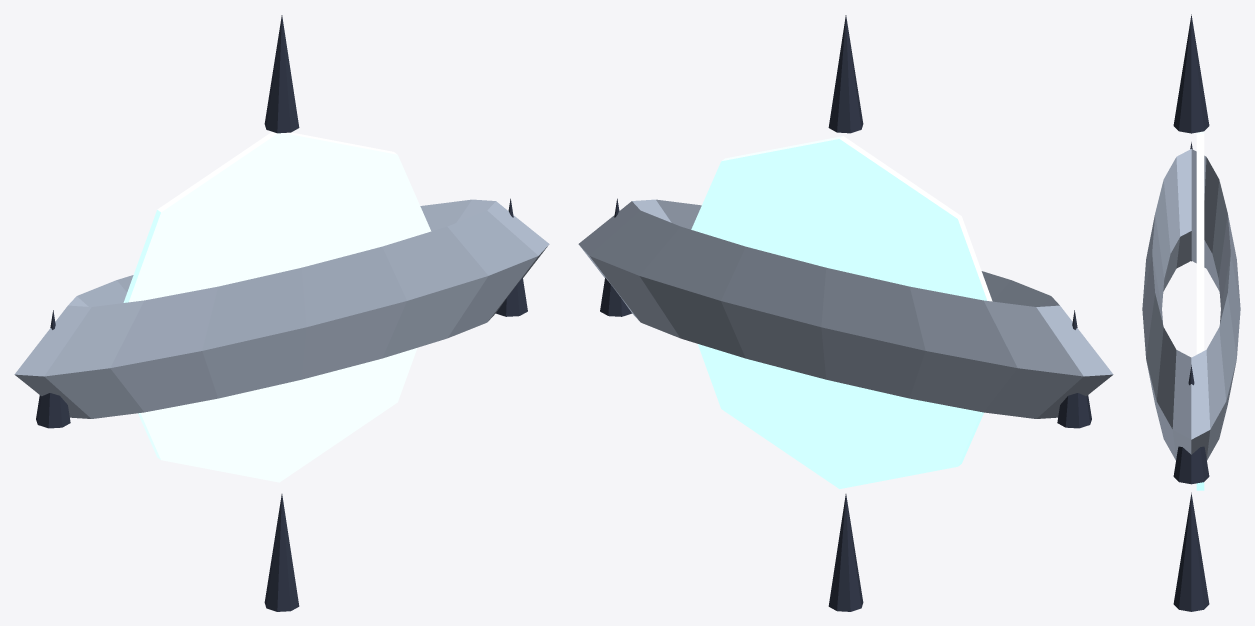
File: prismatic-portal-lod2.glb
The picture shows the model from 3 angles, left to right: view 1: azimuth 30°, elevation 25°; view 2: azimuth 150°, elevation 25°; view 3: azimuth 270°, elevation 25°; orthographic projection.
Visible parts, largest first — view 1: PortalRing, PortalCore, RuneSpire.3, RuneSpire.1, RuneSpire.2, RuneSpire.0; view 2: PortalRing, PortalCore, RuneSpire.3, RuneSpire.1, RuneSpire.2, RuneSpire.0; view 3: PortalRing, RuneSpire.3, RuneSpire.1, PortalCore, RuneSpire.0.
Part boxes in pixels (x1,y1,x2,y2): PortalRing: (14,199,549,418); PortalCore: (123,131,431,482); RuneSpire.3: (264,494,299,611); RuneSpire.1: (264,15,299,133); RuneSpire.2: (36,310,70,428); RuneSpire.0: (496,198,527,316); PortalRing: (578,199,1113,418); PortalCore: (691,136,992,488); RuneSpire.3: (828,494,863,611); RuneSpire.1: (828,15,863,133); RuneSpire.2: (1057,310,1091,428); RuneSpire.0: (600,198,631,316); PortalRing: (1142,149,1240,460); RuneSpire.3: (1173,492,1209,611); RuneSpire.1: (1173,14,1209,133); PortalCore: (1196,131,1204,490); RuneSpire.0: (1173,365,1209,484).
Size of the model in its own units: 5.5 by 5.8 by 0.875.
